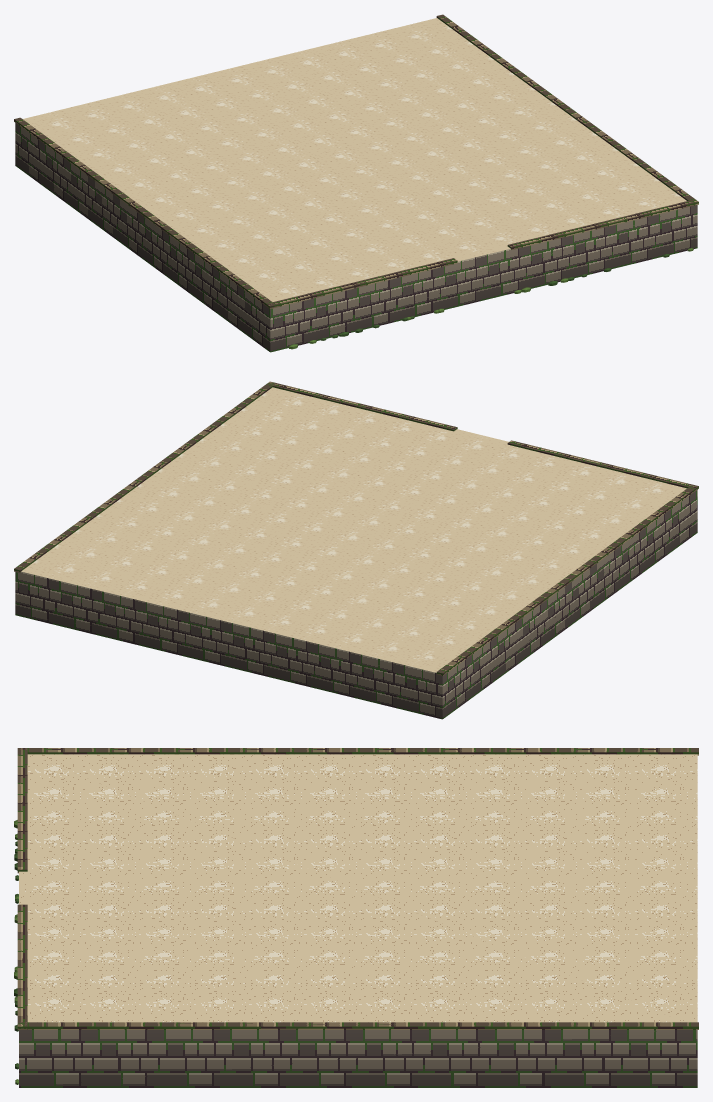
File: scene_plat_c7.glb
The picture shows the model from 3 angles, top to bottom: view 1: azimuth 30°, elevation 25°; view 2: azimuth 150°, elevation 25°; view 3: azimuth 270°, elevation 25°; orthographic projection. The views are drawn at different scales.
Visible parts, largest first — view 1: scene_plat_c7; view 2: scene_plat_c7; view 3: scene_plat_c7.
Part boxes in pixels (bbox=[...]): scene_plat_c7: bbox=[14, 14, 698, 352]; scene_plat_c7: bbox=[14, 381, 698, 719]; scene_plat_c7: bbox=[14, 748, 698, 1087].
Size of the model in its own units: 23.9 by 2.57 by 24.84.
Materials: 3 (2 with a texture image).
